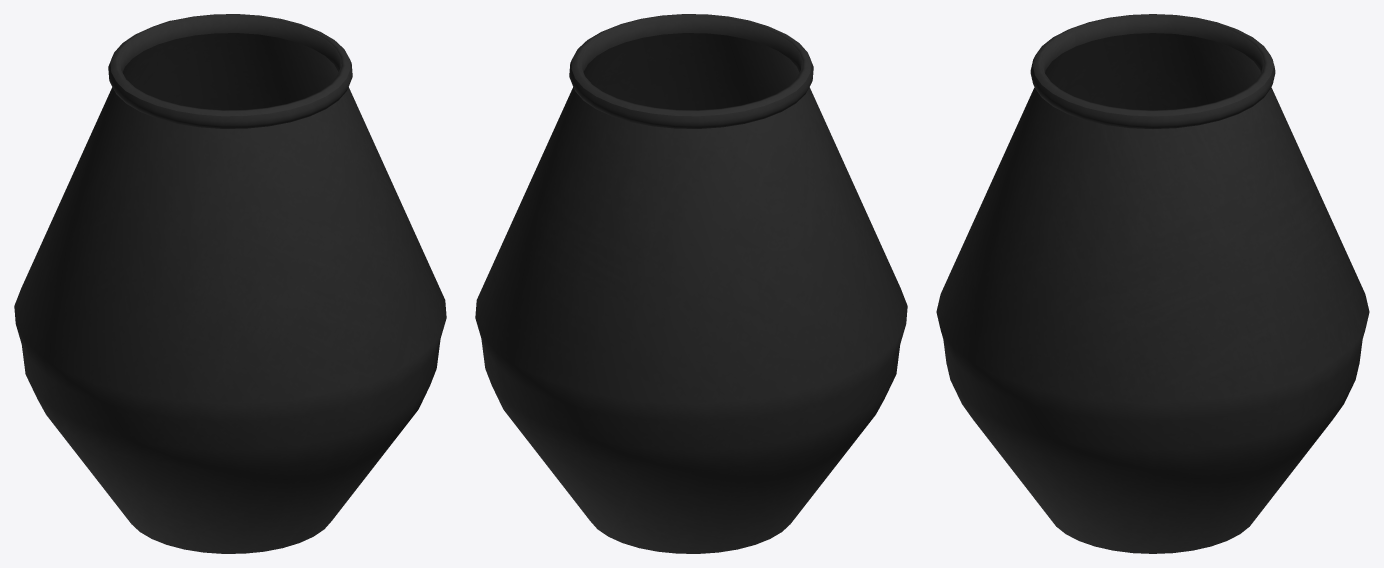
Rendered from JugUnity.fbx.
3 views of the same model, side by side, from view 1: azimuth 30°, elevation 25°; view 2: azimuth 150°, elevation 25°; view 3: azimuth 270°, elevation 25° (orthographic).
Parts seen in each view (by area): view 1: Окружность.009; view 2: Окружность.009; view 3: Окружность.009.
Part boxes in pixels (x1,y1,x2,y2): Окружность.009: [14, 14, 446, 553]; Окружность.009: [475, 14, 907, 553]; Окружность.009: [936, 14, 1369, 553].
Bounding box in the file's own units: 265 × 301 × 265.
